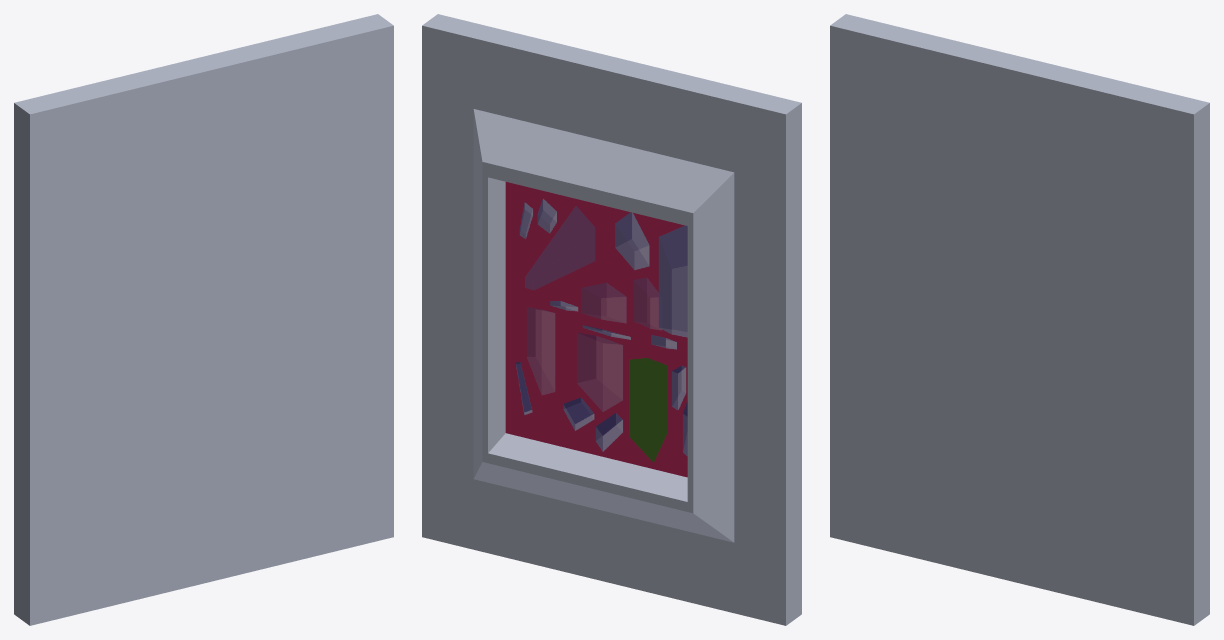
The model's file is BItmap_Art.fbx.
3 views of the same model, side by side, from view 1: azimuth 30°, elevation 25°; view 2: azimuth 150°, elevation 25°; view 3: azimuth 330°, elevation 25° (orthographic).
Visible parts, largest first — view 1: Bitmap; view 2: Bitmap, Image.010; view 3: Bitmap.
Boxes of the visible parts, x1,y1,x2,y2 form: Bitmap: (14, 14, 393, 625); Bitmap: (422, 14, 801, 625); Image.010: (505, 182, 687, 477); Bitmap: (830, 14, 1209, 625).
Size of the model in its own units: 861 by 1156 by 131.
